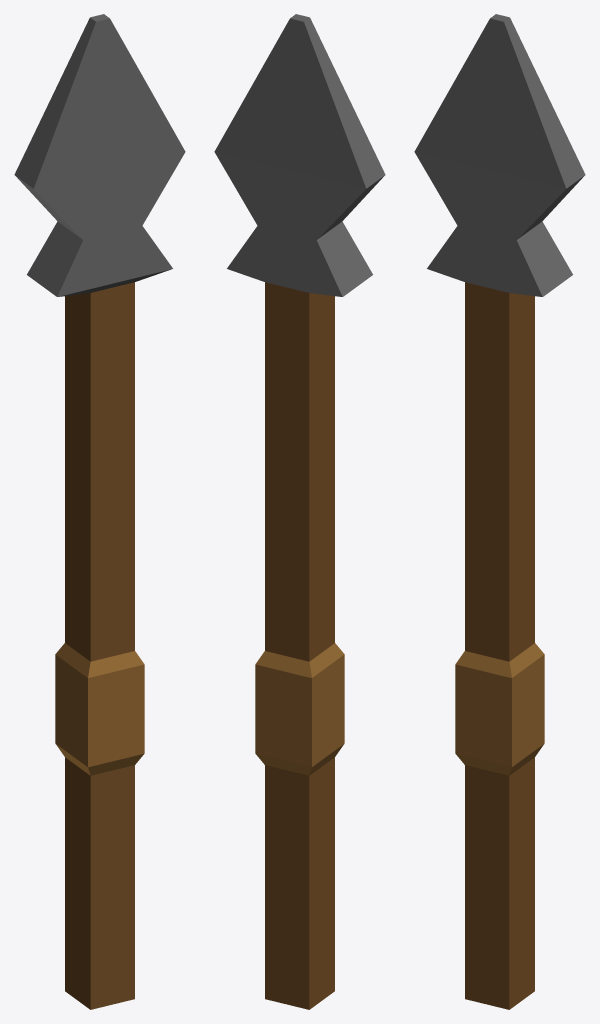
File: Spear_Hero.glb
3 renders of one model, left to right at view 1: azimuth 30°, elevation 25°; view 2: azimuth 150°, elevation 25°; view 3: azimuth 330°, elevation 25°, orthographic.
Visible parts, largest first — view 1: Spear; view 2: Spear; view 3: Spear.
Part boxes in pixels (x1=…): Spear: x1=14, y1=14, x2=185, y2=1009; Spear: x1=214, y1=14, x2=385, y2=1009; Spear: x1=414, y1=14, x2=585, y2=1009.
Bounding box in the file's own units: 0.2401 × 1.48 × 0.0895.
1 material, 1 textured.
